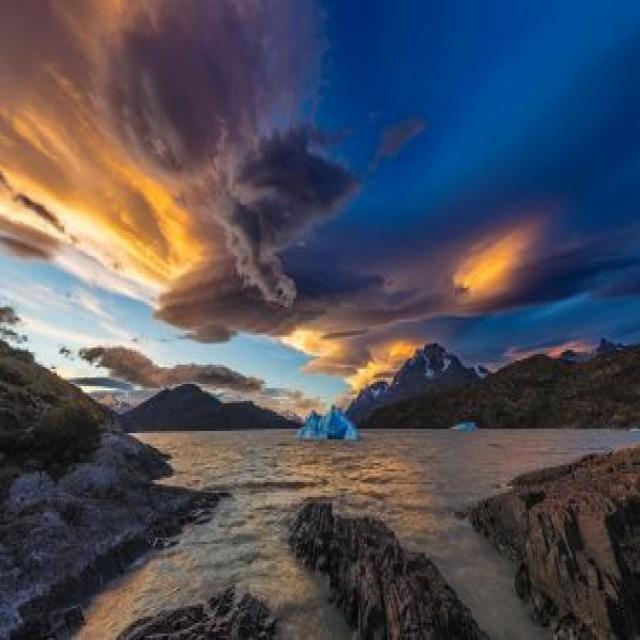other: (20, 131, 198, 313), (450, 222, 544, 299), (330, 328, 422, 396)
